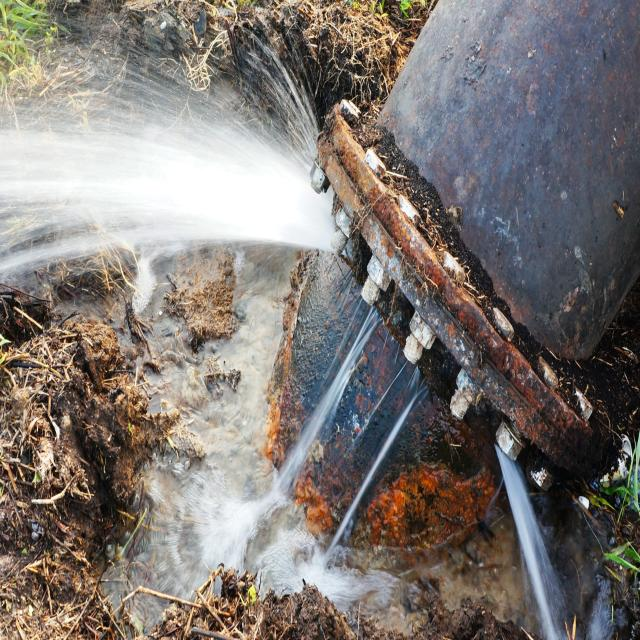leak: (0, 22, 332, 284), (276, 310, 380, 494), (324, 391, 420, 563), (495, 445, 565, 639)
